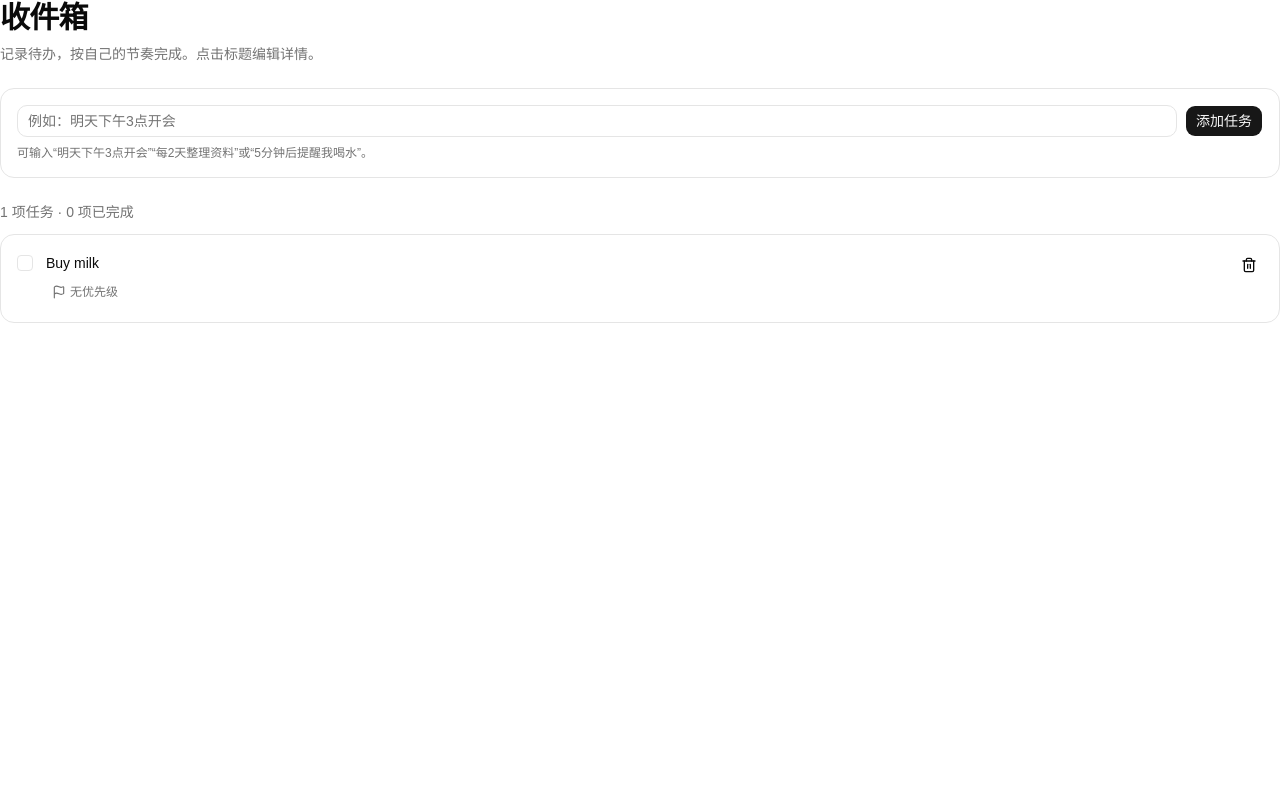
Scenario: opens a priority chooser and saves the selected priority immediately
Click the button with aria-label "更改优先级：无优先级": [85, 292] box top-left (45, 278), bottom-right (125, 306)
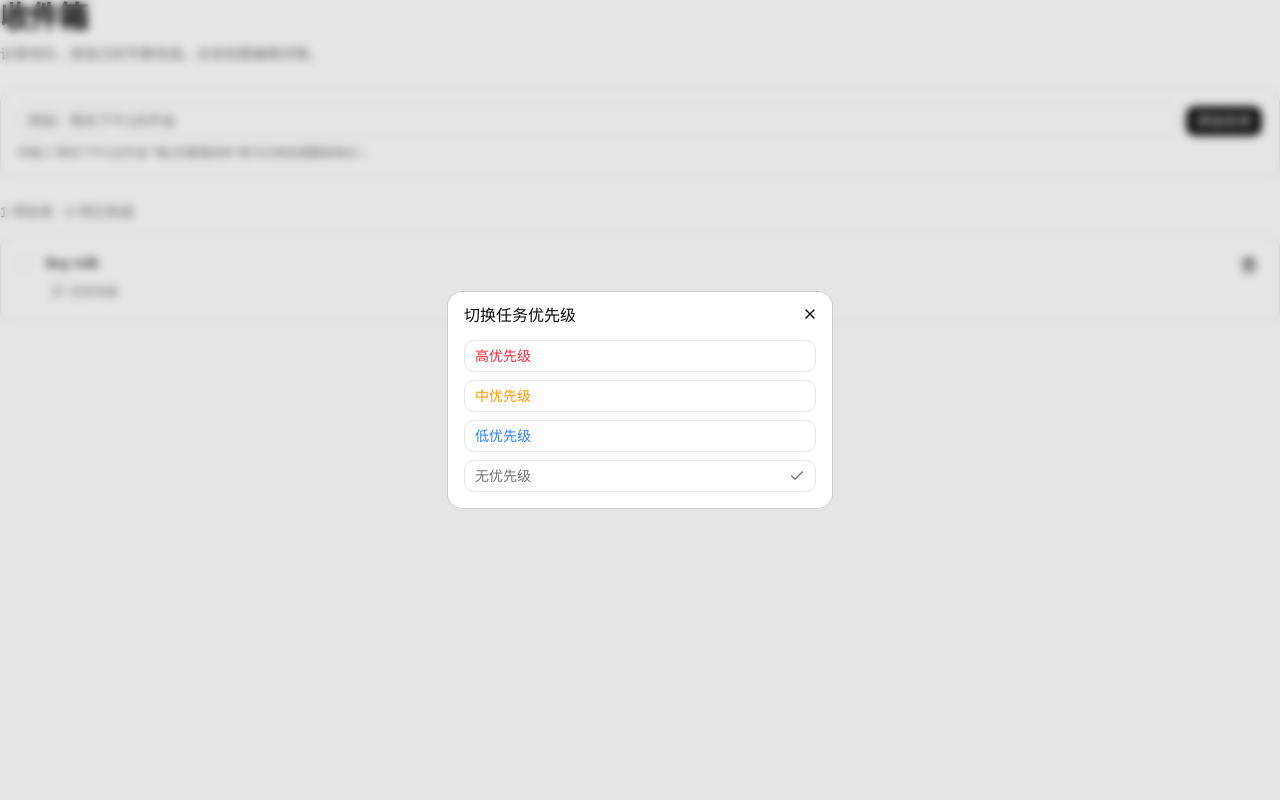
Click the button "高优先级": [503, 356] box top-left (464, 340), bottom-right (816, 372)
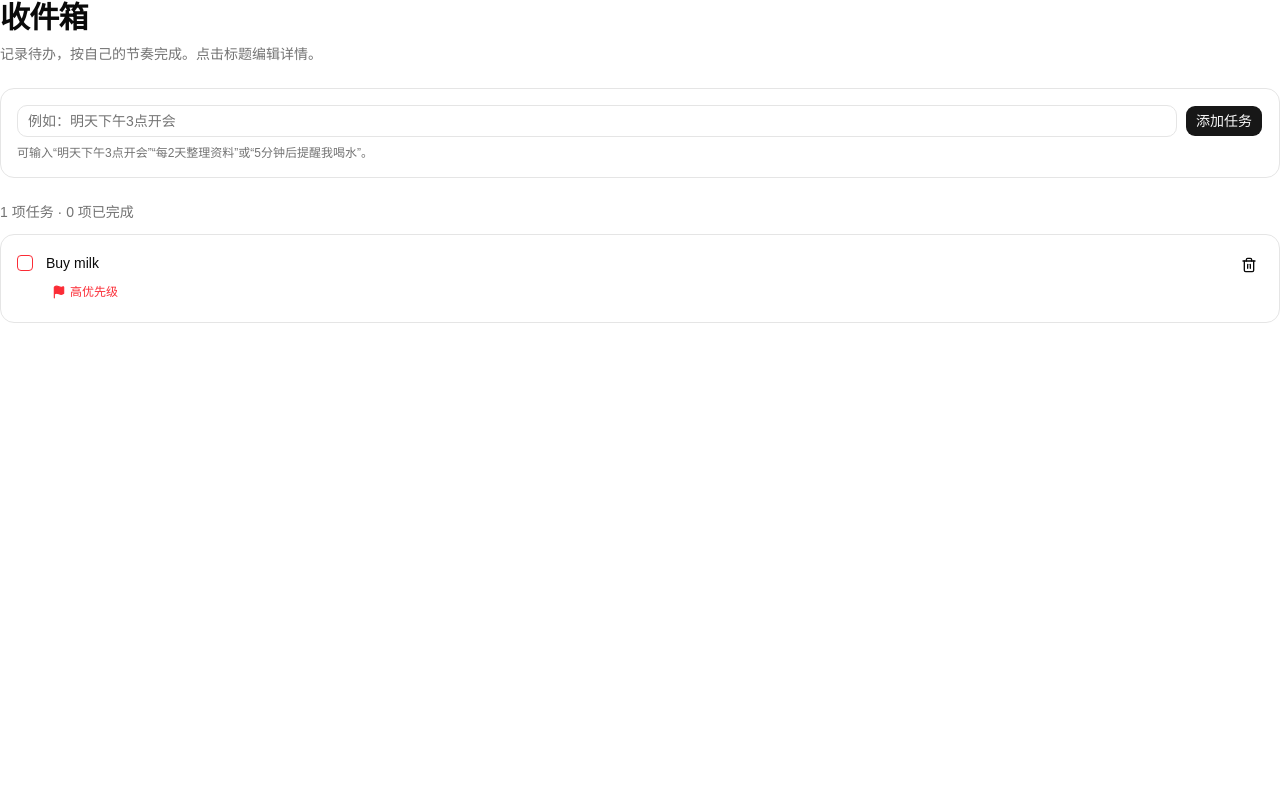
Expected: the button with aria-label "更改优先级：高优先级" is shown, top-left (45, 278), bottom-right (125, 306)
